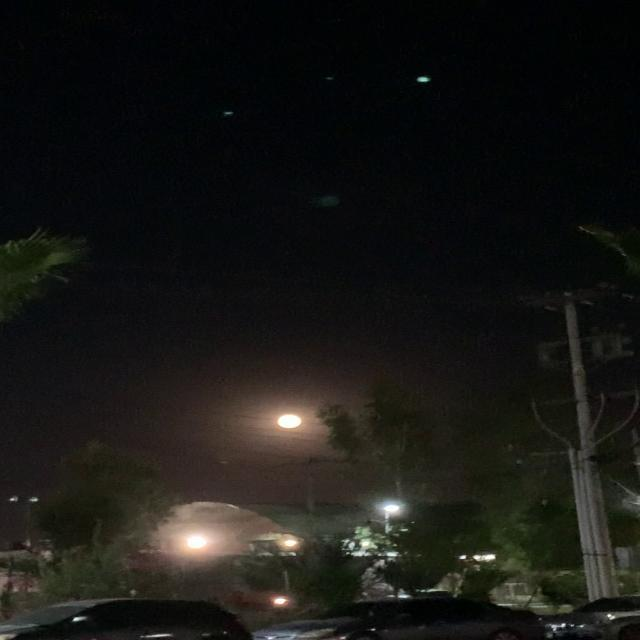moon: (263, 413, 316, 438)
